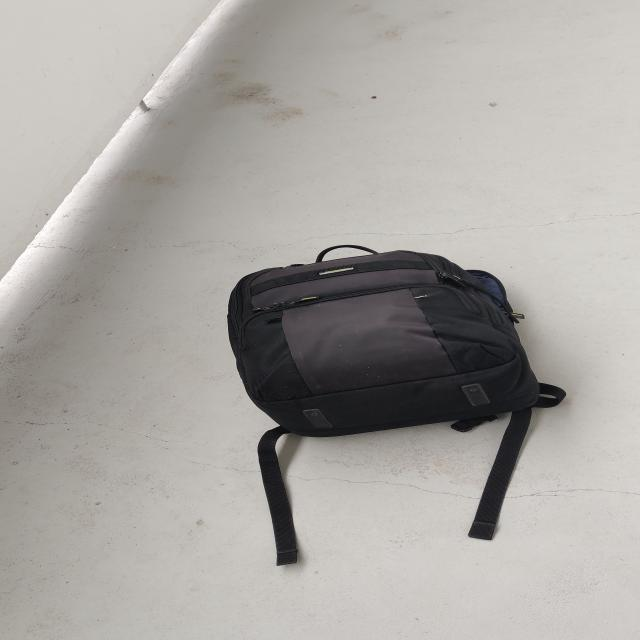backpack: (214, 241, 551, 449)
